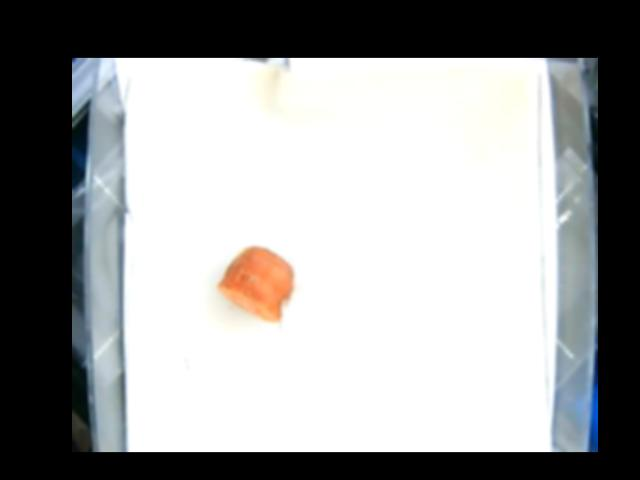Carrot: (218, 245, 295, 318)
